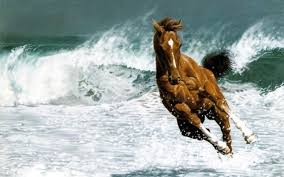Horse: (150, 18, 255, 166)
